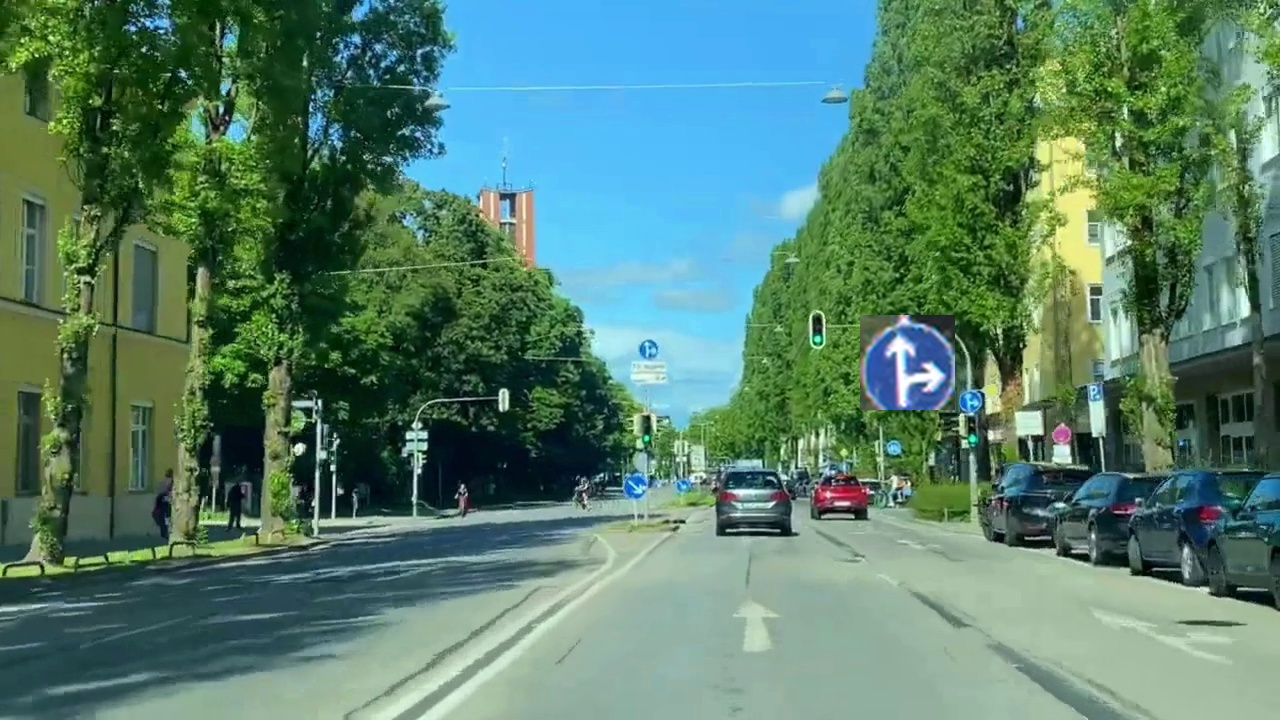Straight/right: (860, 315, 955, 410)
